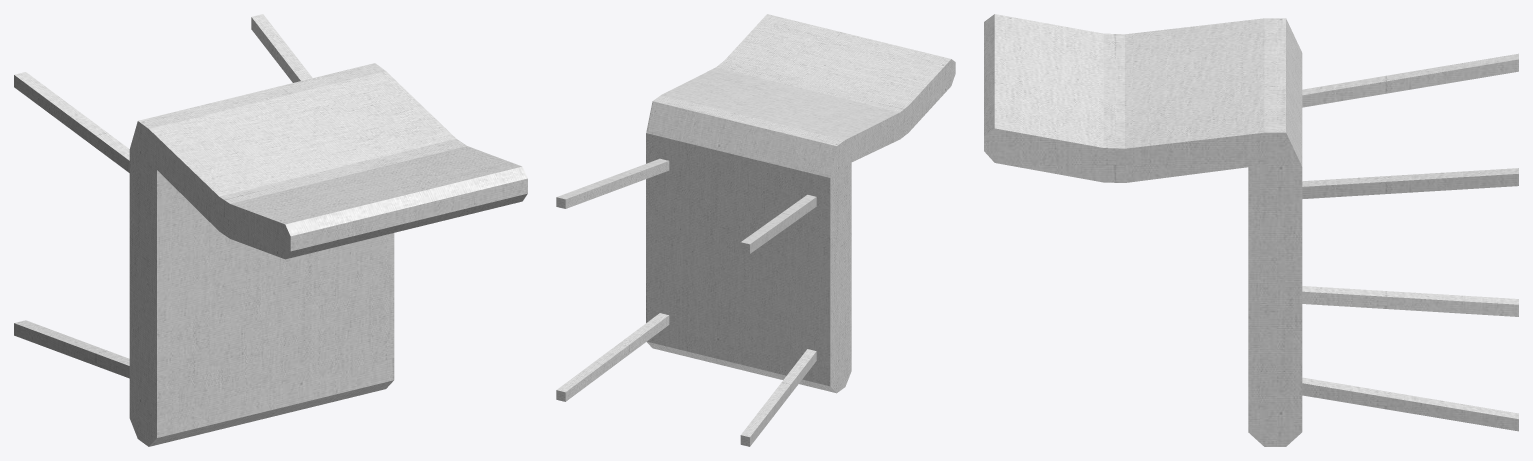
3 renders of one model, left to right at view 1: azimuth 30°, elevation 25°; view 2: azimuth 150°, elevation 25°; view 3: azimuth 270°, elevation 25°, orthographic. The views are drawn at different scales.
Parts seen in each view (by area): view 1: Box001; view 2: Box001; view 3: Box001.
Part boxes in pixels (x1=…): Box001: x1=14, y1=14, x2=527, y2=446; Box001: x1=556, y1=14, x2=955, y2=446; Box001: x1=984, y1=14, x2=1518, y2=446.
Bounding box in the file's own units: 0.372 × 0.4601 × 0.7.
1 material, 1 textured.
